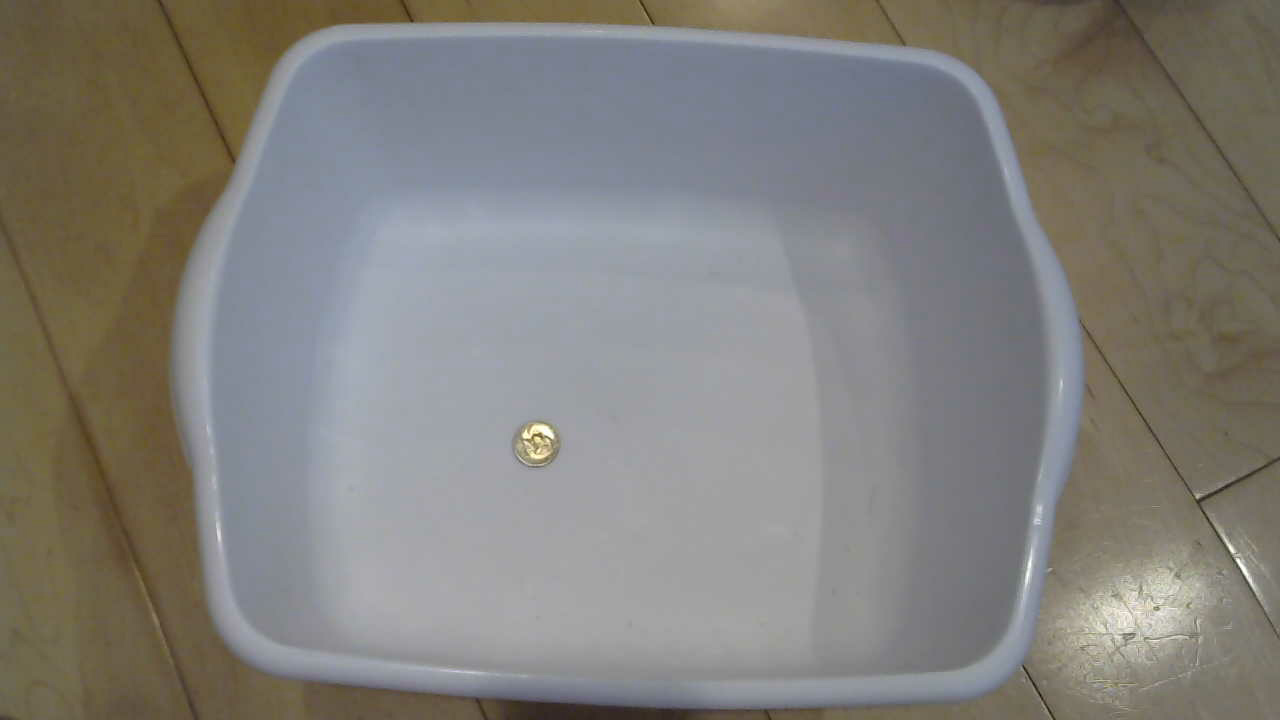coin: (515, 424, 579, 483)
